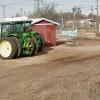Tractor: (3, 8, 52, 66)
